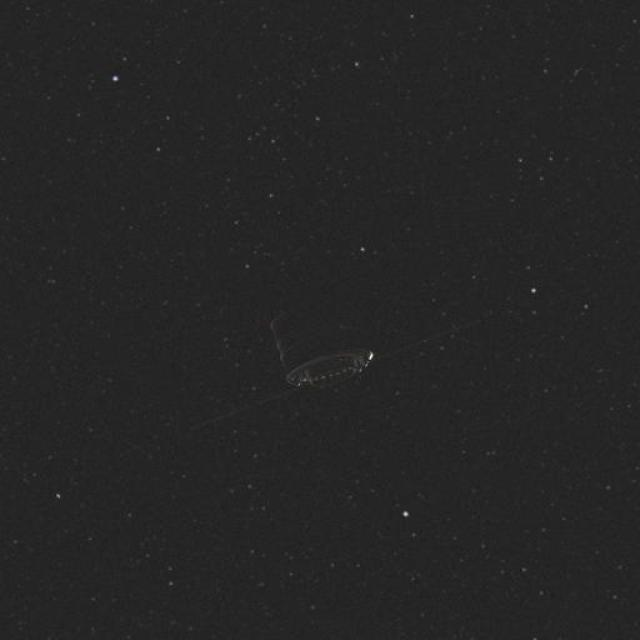double_start: (255, 273, 418, 445)
